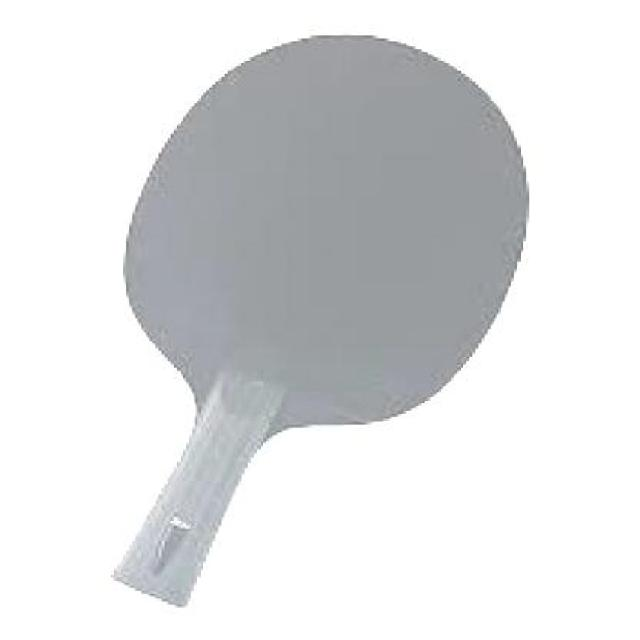table_tennis_racket: (119, 26, 532, 423)
